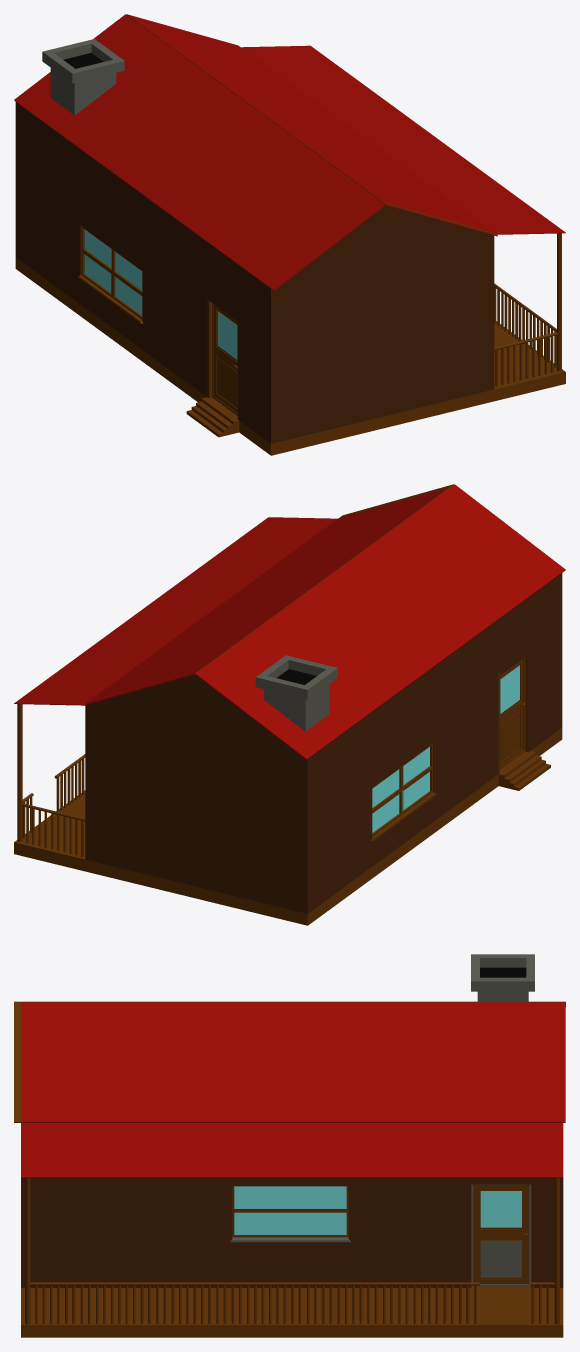
Rendered from house 2.fbx.
3 renders of one model, top to bottom at view 1: azimuth 30°, elevation 25°; view 2: azimuth 150°, elevation 25°; view 3: azimuth 270°, elevation 25°, orthographic. The views are drawn at different scales.
Parts seen in each view (by area): view 1: House 2; view 2: House 2; view 3: House 2.
Boxes of the visible parts, <box> form: House 2: <box>14,14,565,455</box>; House 2: <box>14,484,565,925</box>; House 2: <box>14,954,565,1337</box>.
Bounding box in the file's own units: 214 × 147 × 305.
